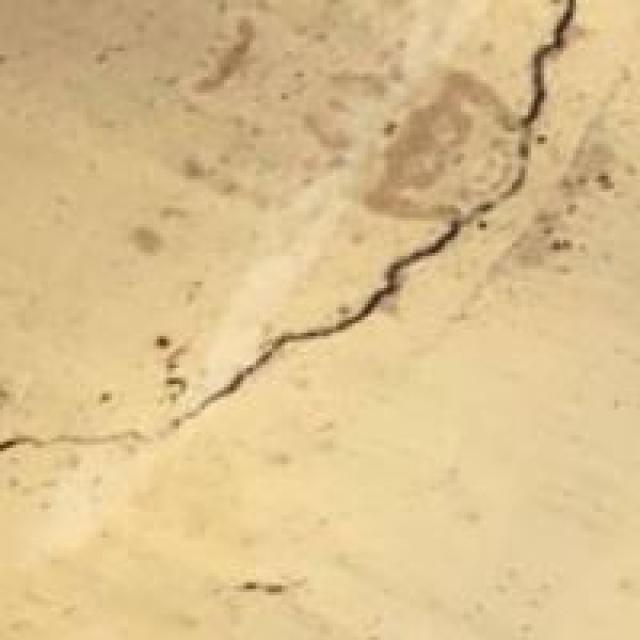crack: (3, 6, 586, 484)
